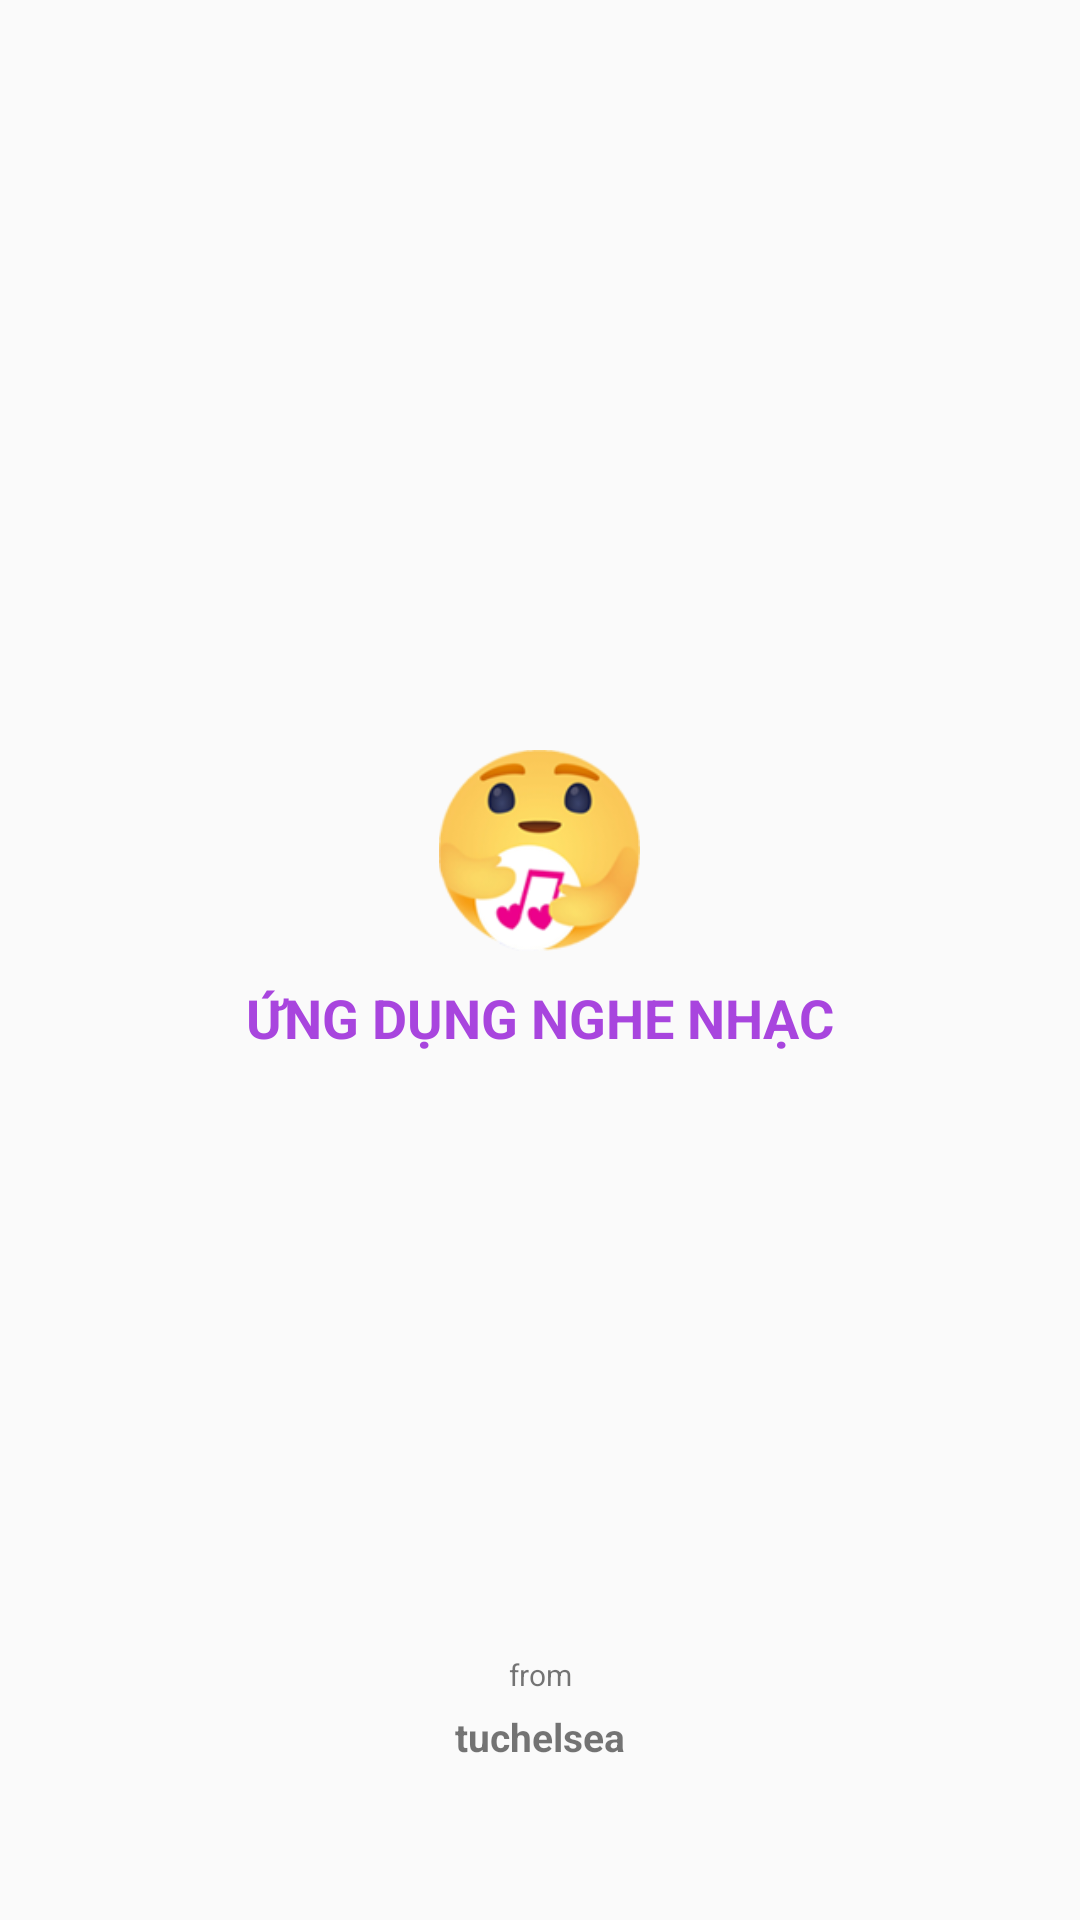

Icons on this 1080*1920 Android screen, each with the point to tap as (x,y):
thuongthuong: (539,850)
